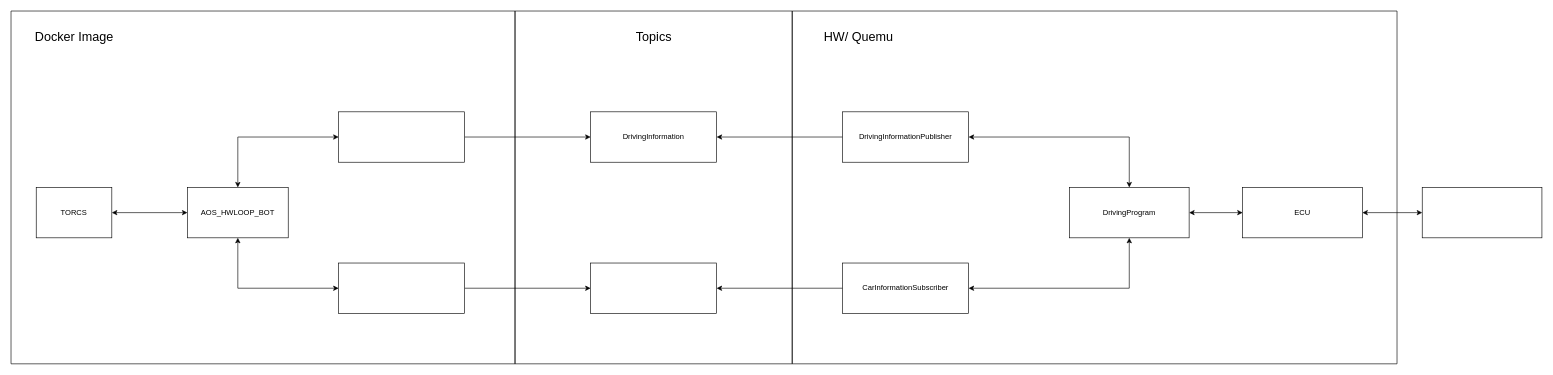
The diagram is 1553 pixels wide and 375 high, and some of its shapes have lost their labels. Each missing label, with the centre of its shape:
"CarInformation" goes at point 653,287.
"CarInformationPublisher" goes at point 401,287.
"DrivingInformationSubscriber" goes at point 401,136.
"I/O Wheel and Pedals" goes at point 1482,212.
